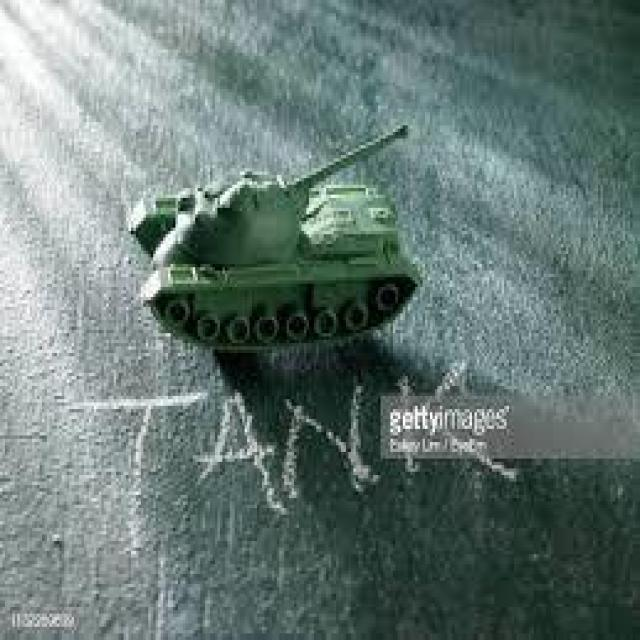Tanks: (124, 123, 433, 364)
